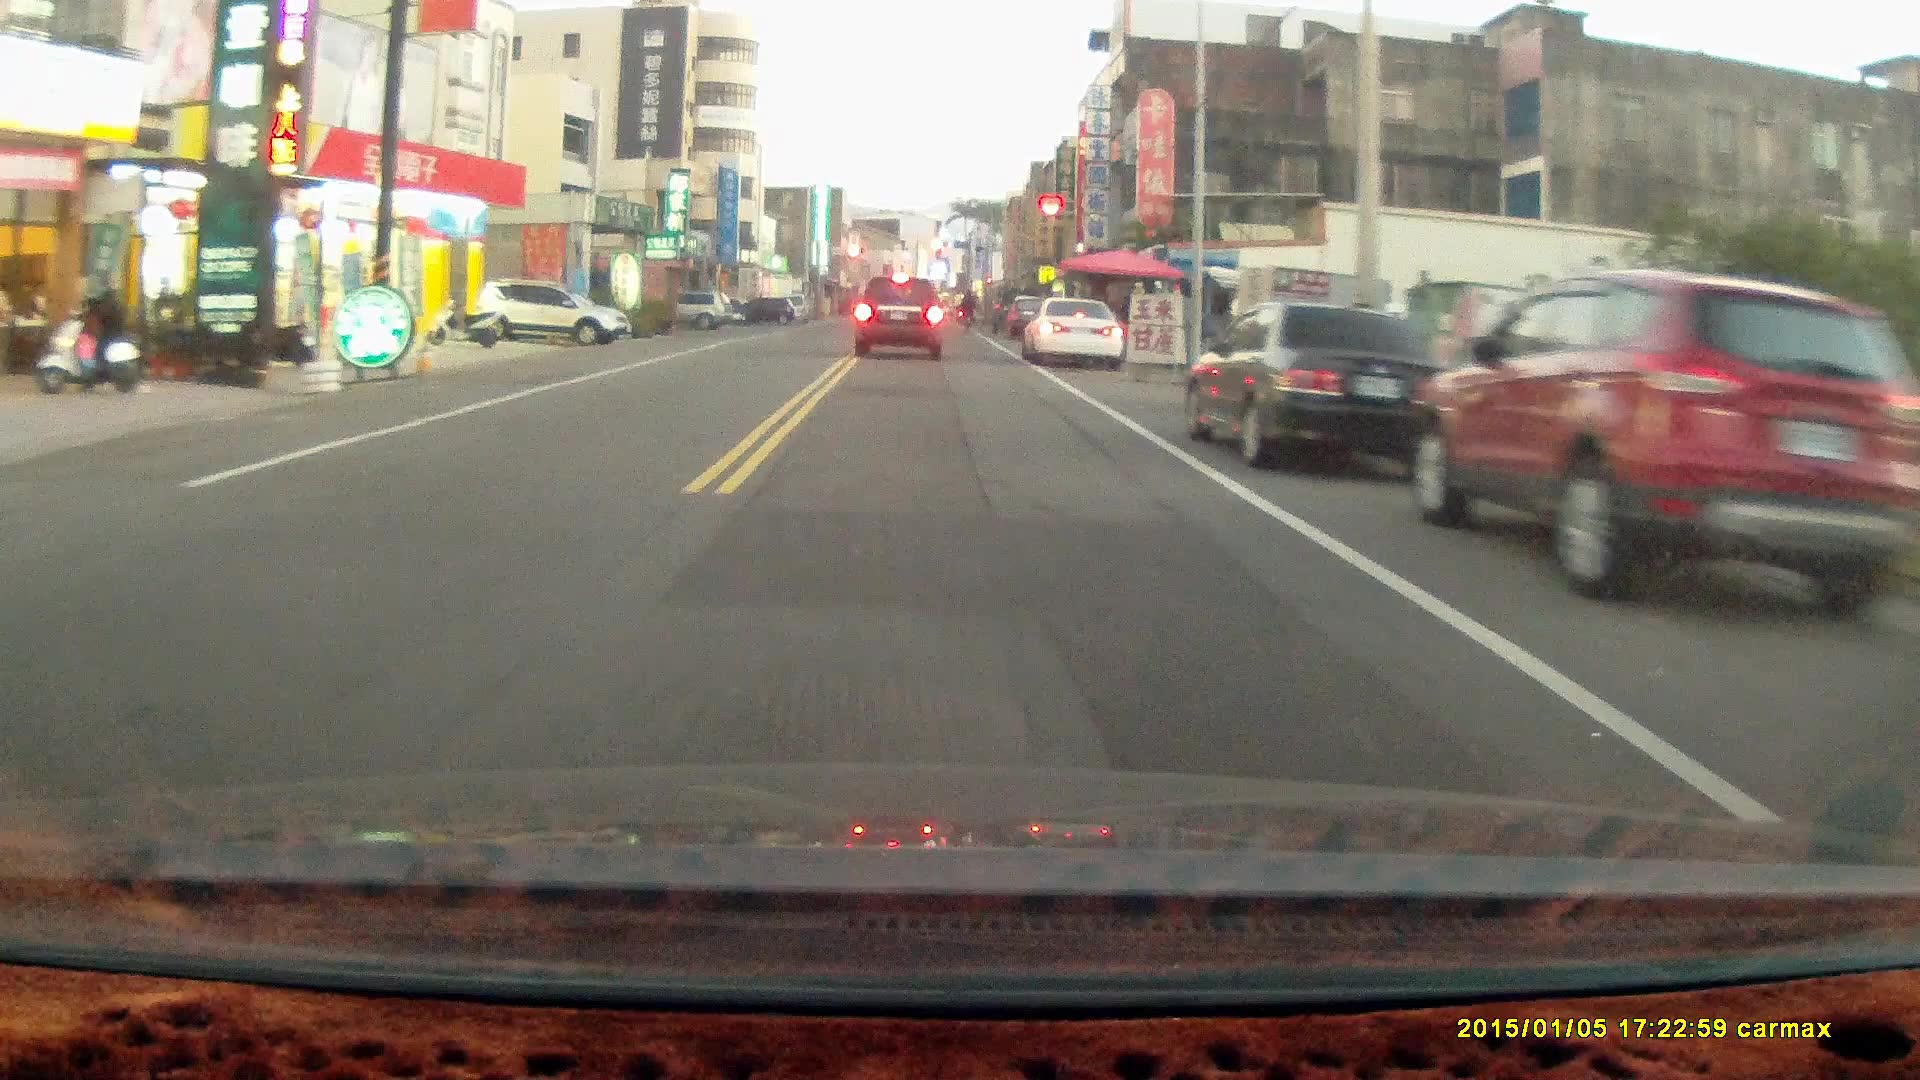vehicle: (1419, 262, 1911, 612), (1178, 298, 1448, 469), (476, 278, 637, 352), (855, 272, 945, 359), (1025, 295, 1129, 368)
